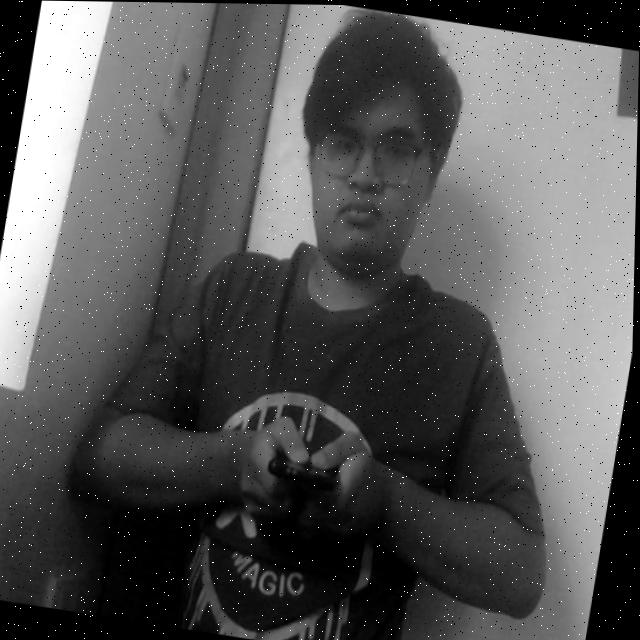phone: (259, 412, 356, 527)
